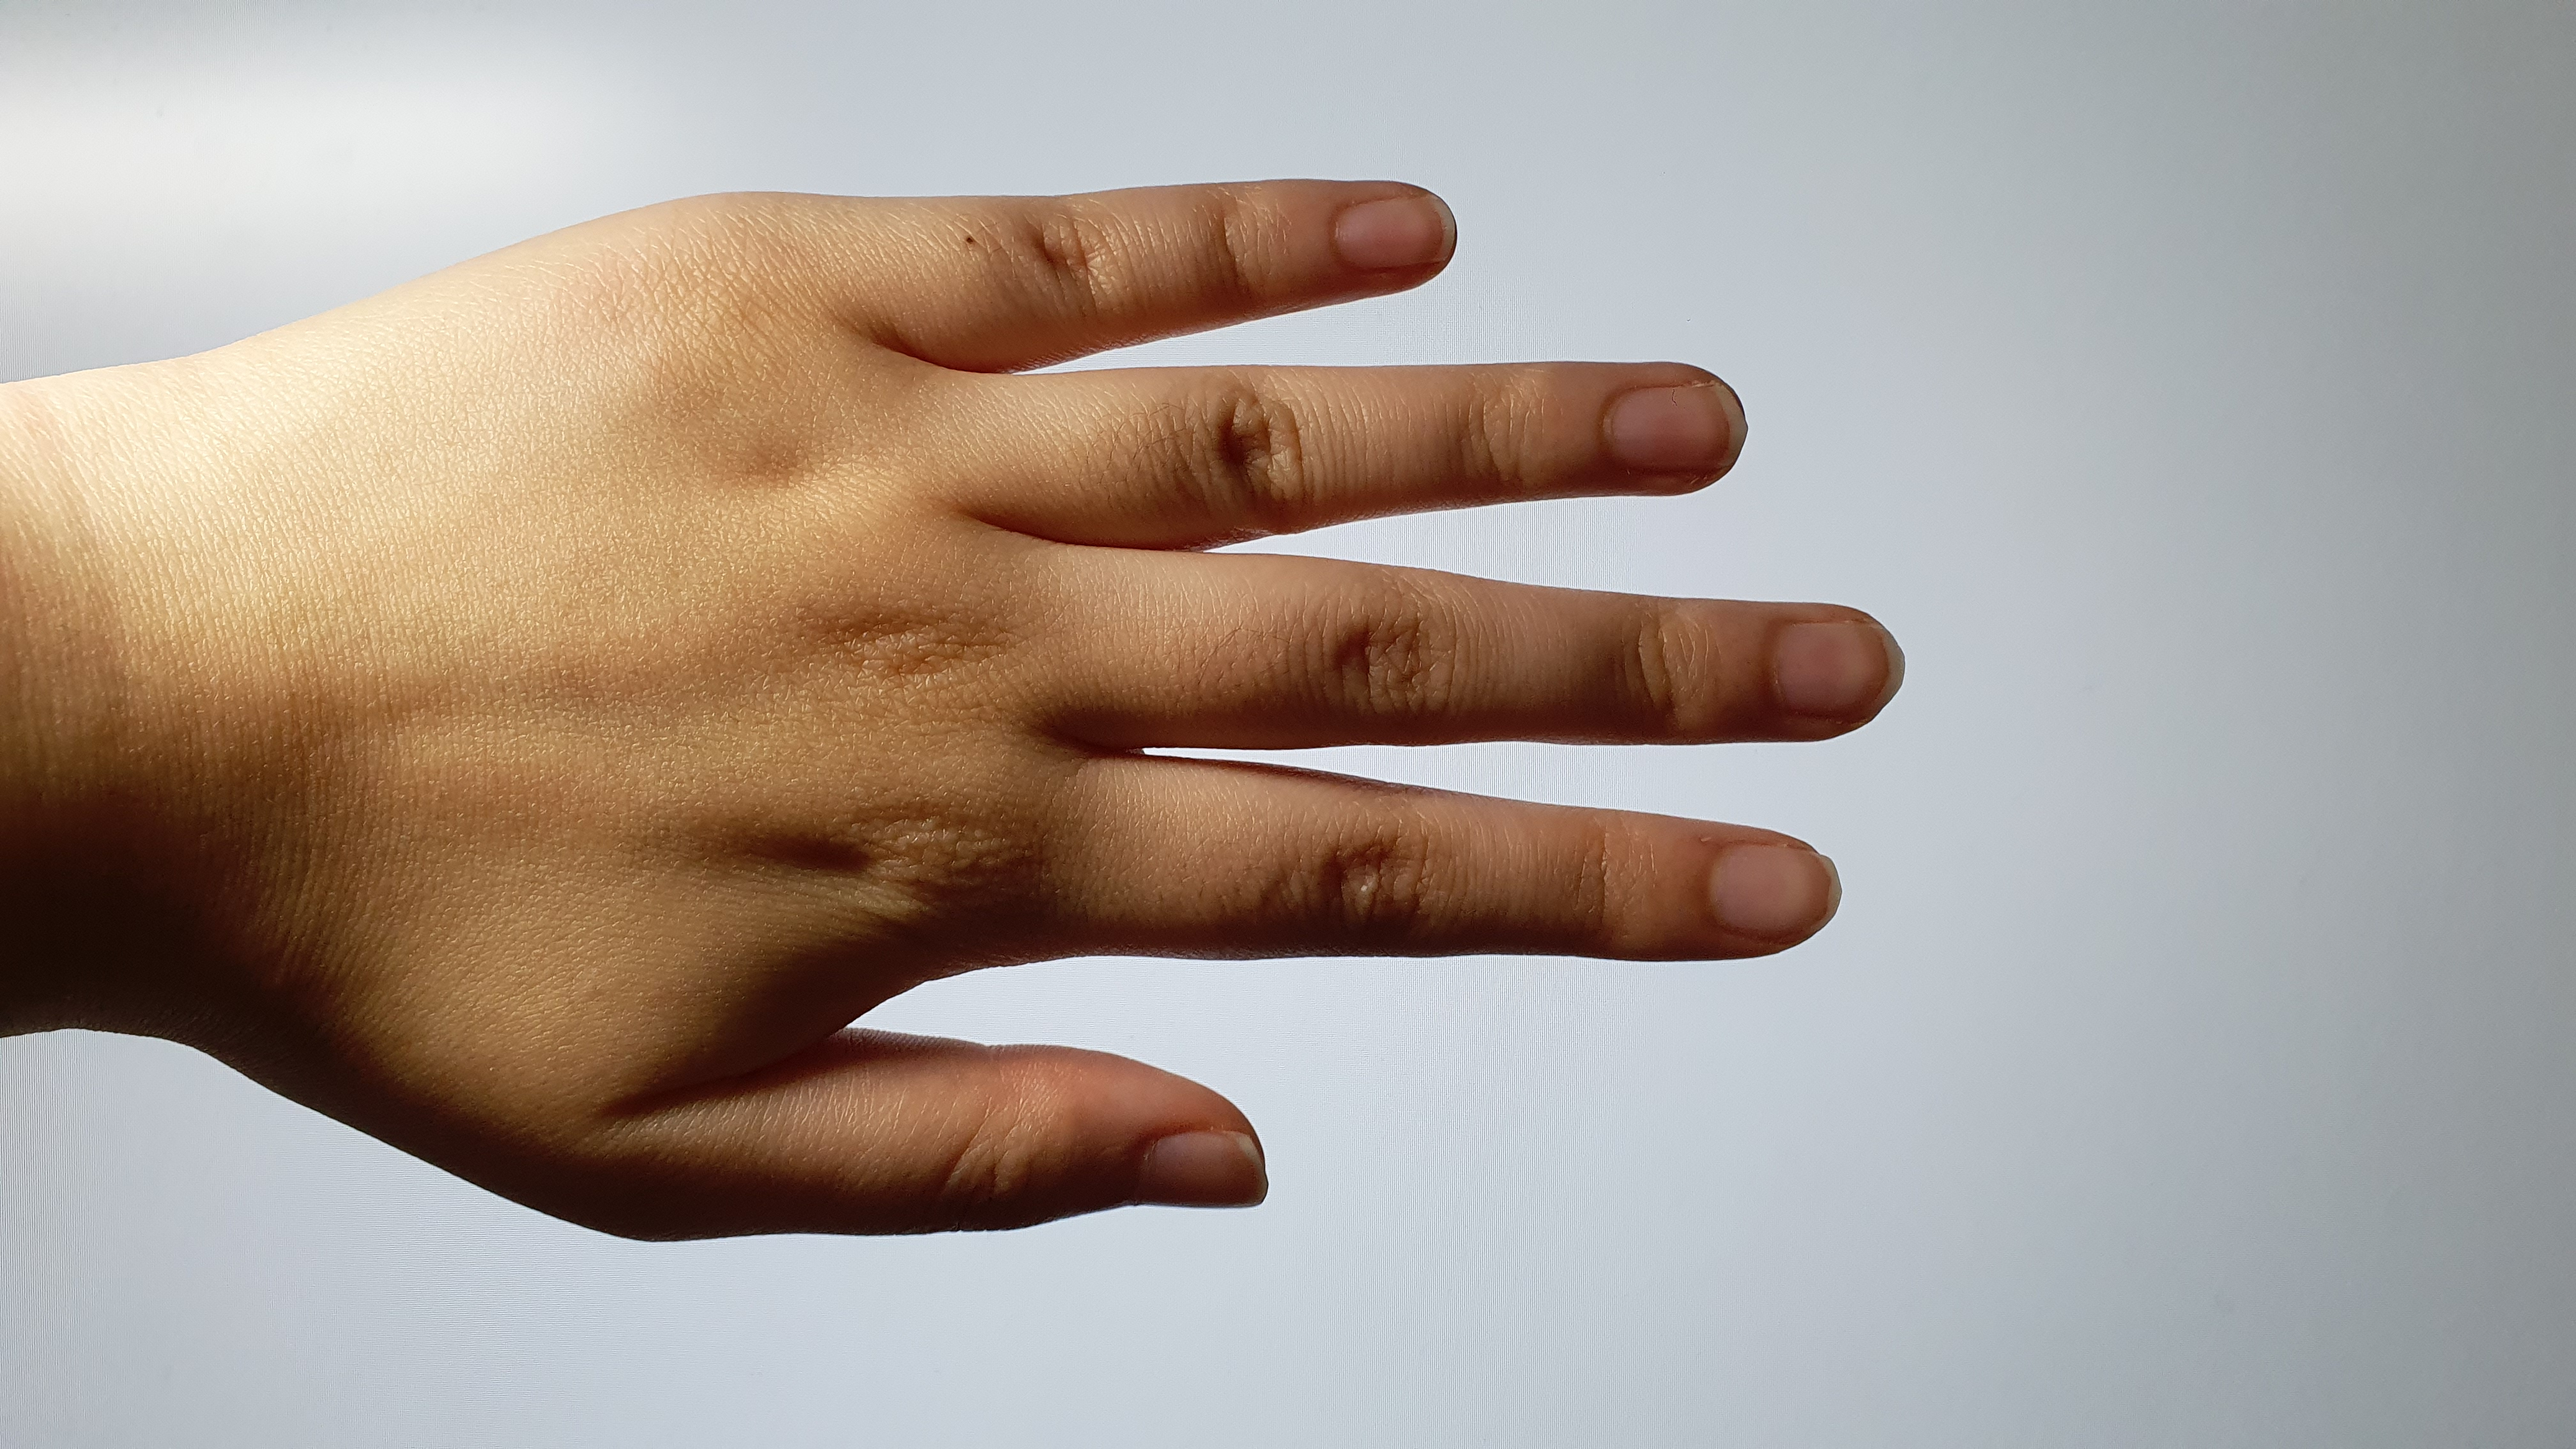backhand: (170, 253, 1021, 1005)
hand: (207, 166, 1913, 1261)
index finger: (1037, 759, 1852, 975)
middle finger: (1108, 543, 1911, 759)
pinky: (773, 172, 1477, 370)
ring finger: (980, 357, 1767, 548)
thumb: (741, 1016, 1283, 1256)
